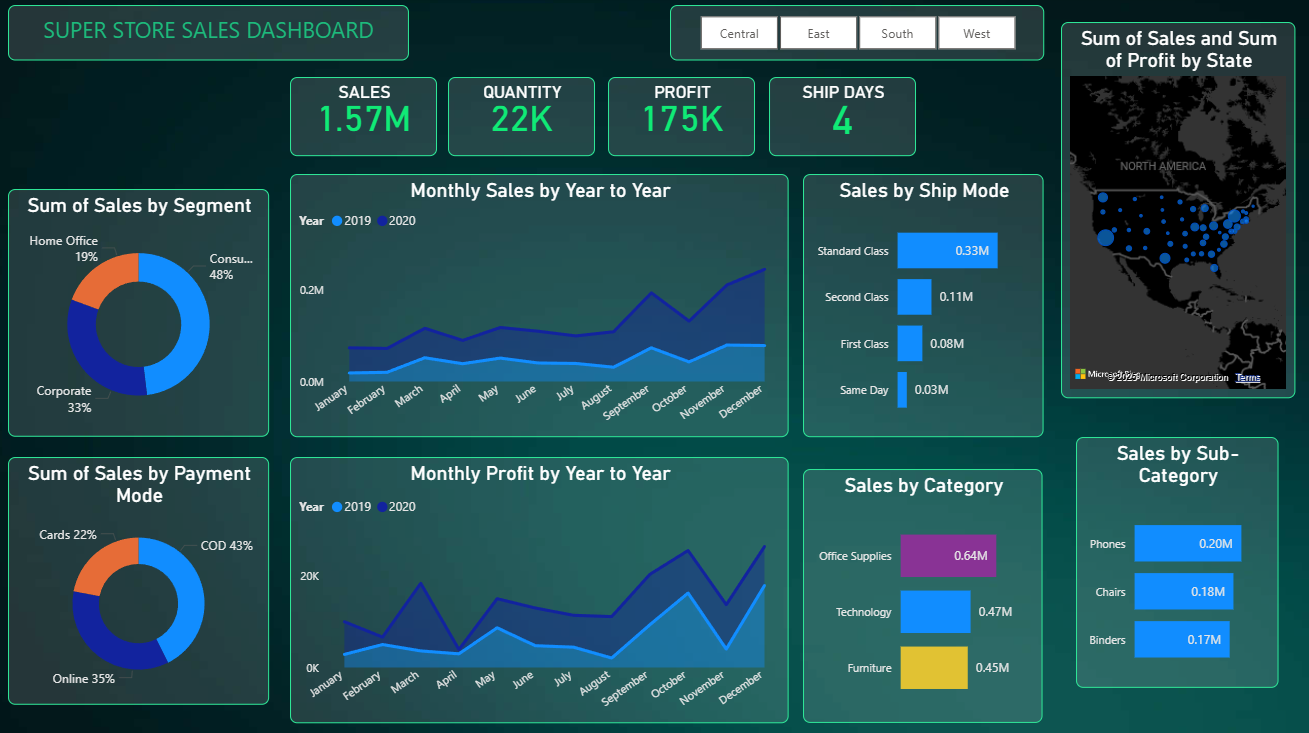

Layout of this report page (visuals, bound fields, positions):
{"tool":"powerbi","page":{"name":"Page 1","canvas":[1280,720],"ordinal":0},"visuals":[{"type":"clusteredBarChart","title":" Sales by Category","fields":{"Category":["Sheet1.Category"],"Y":["Sum(Sheet1.Sales)"]},"box":[786.9,459.1,233.4,247.1],"z":0},{"type":"clusteredBarChart","title":" Sales by Sub- Category","fields":{"Y":["Sum(Sheet1.Sales)"],"Category":["Sheet1.Sub-Category"]},"box":[1052.4,428,197.4,244.1],"z":1000},{"type":"clusteredBarChart","title":" Sales by Ship Mode","fields":{"Y":["Sum(Sheet1.Sales)"],"Category":["Sheet1.Ship Mode"]},"box":[786.9,172.2,234.4,255.8],"z":2000},{"type":"stackedAreaChart","title":" Monthly Sales by Year to Year","fields":{"Category":["Sheet1.Order Date.Variation.Date Hierarchy.Month","Sheet1.Order Date.Variation.Date Hierarchy.Day"],"Y":["Sum(Sheet1.Sales)"],"Series":["Sheet1.Order Date.Variation.Date Hierarchy.Year"]},"box":[287.9,172.2,485.3,255.8],"z":3000},{"type":"stackedAreaChart","title":" Monthly Profit by Year to Year","fields":{"Category":["Sheet1.Order Date.Variation.Date Hierarchy.Month","Sheet1.Order Date.Variation.Date Hierarchy.Day"],"Series":["Sheet1.Order Date.Variation.Date Hierarchy.Year"],"Y":["Sum(Sheet1.Profit)"]},"box":[287.9,447.4,485.3,258.7],"z":4000},{"type":"map","fields":{"Category":["Sheet1.State"],"Size":["Sum(Sheet1.Sales)"]},"box":[1037.8,24.3,227.6,365.7],"z":5000},{"type":"donutChart","fields":{"Category":["Sheet1.Segment"],"Y":["Sum(Sheet1.Sales)"]},"box":[13.6,186.7,253.9,241.2],"z":6000},{"type":"donutChart","fields":{"Y":["Sum(Sheet1.Sales)"],"Category":["Sheet1.Payment Mode"]},"box":[13.6,447.4,253.9,241.2],"z":7000},{"type":"slicer","fields":{"Values":["Sheet1.Region"]},"box":[657.5,7.8,363.8,54.5],"z":8000},{"type":"textbox","box":[13.6,7.8,390,54.5],"z":9000},{"type":"card","title":"SALES","fields":{"Values":["Sum(Sheet1.Sales)"]},"box":[287.9,77.8,143,76.8],"z":10000},{"type":"card","title":"QUANTITY","fields":{"Values":["Sum(Sheet1.Quantity)"]},"box":[441.6,77.8,143,76.8],"z":11000},{"type":"card","title":"PROFIT","fields":{"Values":["Sum(Sheet1.Profit)"]},"box":[597.2,77.8,143,76.8],"z":12000},{"type":"card","title":"SHIP DAYS","fields":{"Values":["Avg(Sheet1.AvgDel)"]},"box":[753.8,77.8,143,76.8],"z":13000}]}

Visuals, with their boxes in screenshot pixels (x1, y1, x2, y2), scaled from the page's 1280x720 canvas onto the 1309x733 screenshot:
" Sales by Category" clusteredBarChart: detection(805, 467, 1043, 719)
" Sales by Sub- Category" clusteredBarChart: detection(1076, 436, 1278, 684)
" Sales by Ship Mode" clusteredBarChart: detection(805, 175, 1044, 436)
" Monthly Sales by Year to Year" stackedAreaChart: detection(294, 175, 791, 436)
" Monthly Profit by Year to Year" stackedAreaChart: detection(294, 455, 791, 719)
map - Sheet1.State x Sum(Sheet1.Sales): detection(1061, 25, 1294, 397)
donutChart - Sheet1.Segment x Sum(Sheet1.Sales): detection(14, 190, 274, 436)
donutChart - Sum(Sheet1.Sales) x Sheet1.Payment Mode: detection(14, 455, 274, 701)
slicer - Sheet1.Region: detection(672, 8, 1044, 63)
textbox: detection(14, 8, 413, 63)
"SALES" card: detection(294, 79, 441, 157)
"QUANTITY" card: detection(452, 79, 598, 157)
"PROFIT" card: detection(611, 79, 757, 157)
"SHIP DAYS" card: detection(771, 79, 917, 157)
